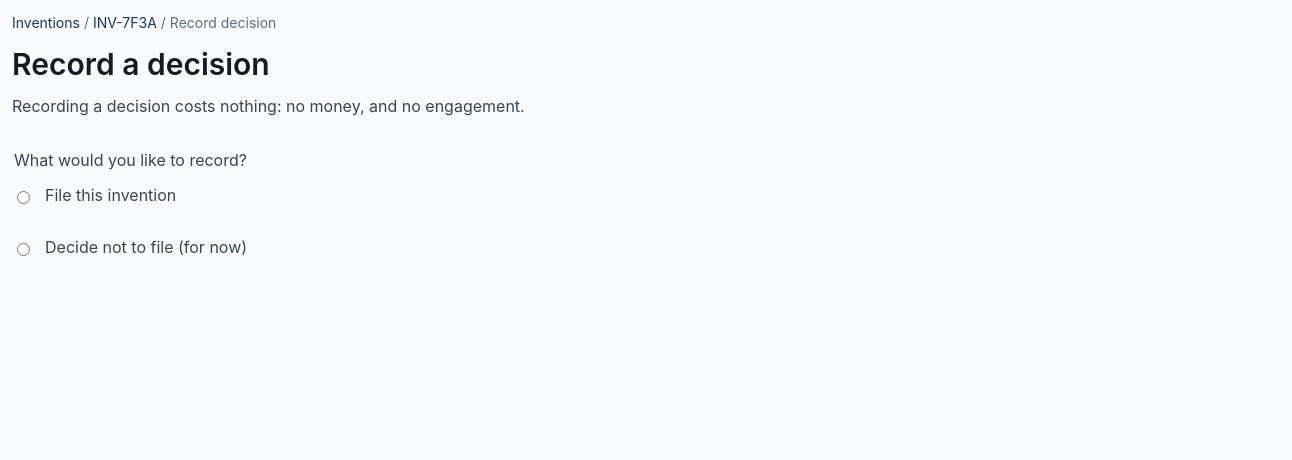
SC-C09 DR-01 agnostic › the filing path (and only it) states the Owner-only fixed permission
Step 1. Click the radio button labelled "File this invention" → (24,197), box 17,191 -> 30,204
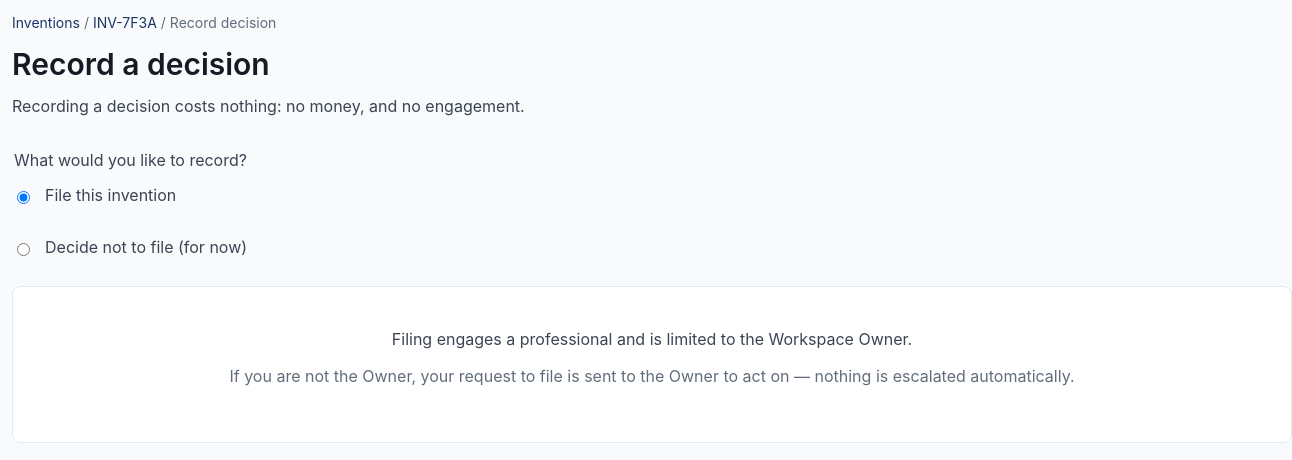
Check: the text "limited to the Workspace Owner" is shown, box 392,329 -> 912,349
